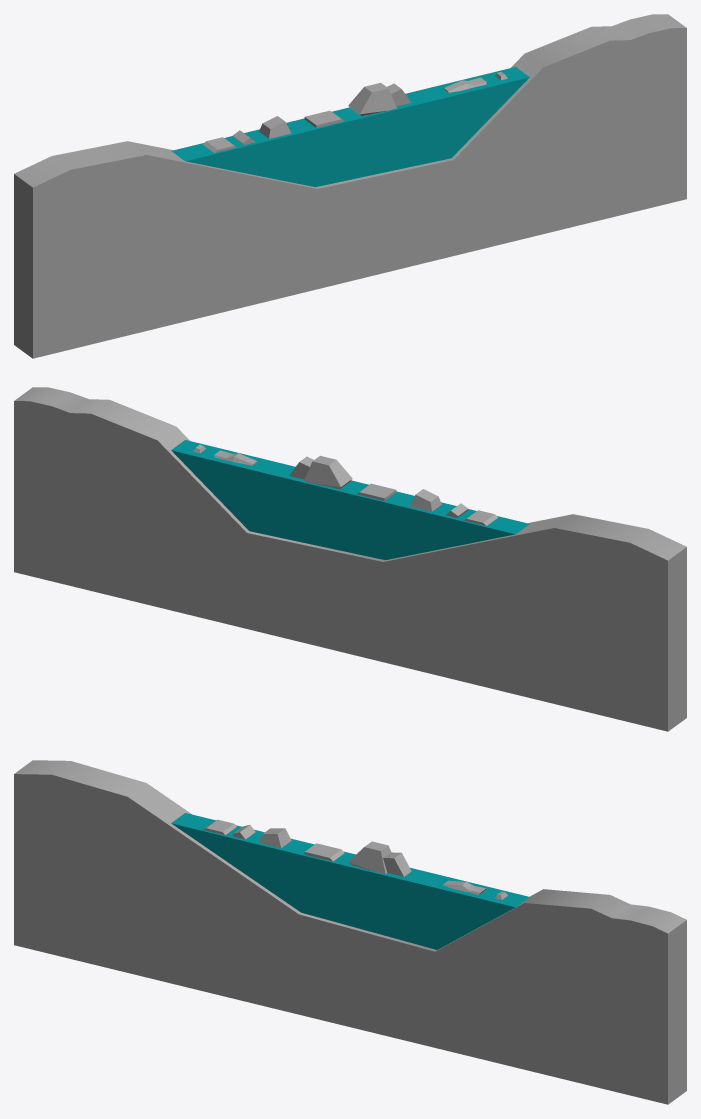
The model's file is EnvModule_02.fbx.
3 views of the same model, one above another, from view 1: azimuth 30°, elevation 25°; view 2: azimuth 150°, elevation 25°; view 3: azimuth 330°, elevation 25° (orthographic).
Visible parts, largest first — view 1: pCube3, pCube4, pCube7; view 2: pCube3, pCube4, pCube7; view 3: pCube3, pCube4, pCube7.
Part boxes in pixels (left/top/right/bottom): pCube3: left=14, top=14, right=686, bottom=358; pCube4: left=171, top=67, right=529, bottom=187; pCube7: left=348, top=82, right=396, bottom=116; pCube3: left=14, top=387, right=686, bottom=731; pCube4: left=171, top=440, right=529, bottom=560; pCube7: left=304, top=455, right=352, bottom=489; pCube3: left=14, top=760, right=686, bottom=1104; pCube4: left=171, top=813, right=529, bottom=949; pCube7: left=348, top=841, right=390, bottom=874.
Bounding box in the file's own units: 20 × 5.25 × 1.
